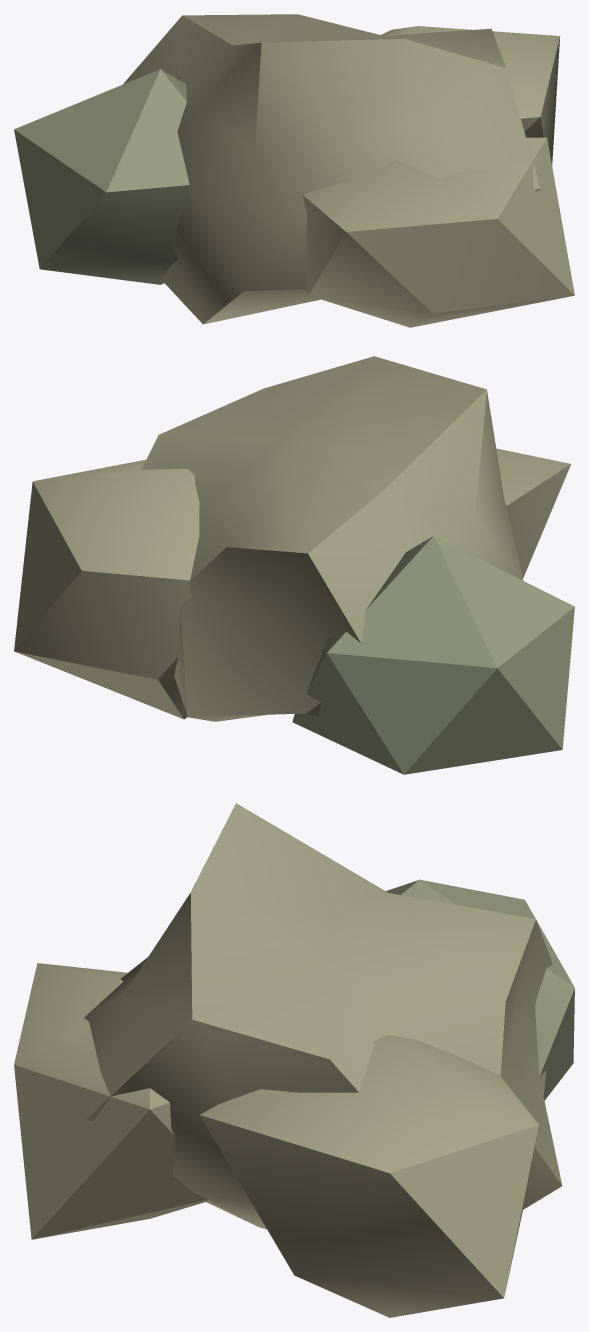
The model's file is bush_gold.gltf.
3 renders of one model, top to bottom at view 1: azimuth 30°, elevation 25°; view 2: azimuth 150°, elevation 25°; view 3: azimuth 270°, elevation 25°, orthographic. The views are drawn at different scales.
Parts seen in each view (by area): view 1: Body; view 2: Body; view 3: Body.
Part boxes in pixels (bbox=[...]): Body: bbox=[14, 14, 574, 327]; Body: bbox=[14, 356, 574, 774]; Body: bbox=[14, 803, 574, 1317].
Size of the model in its own units: 2.38 by 1.42 by 1.87.
